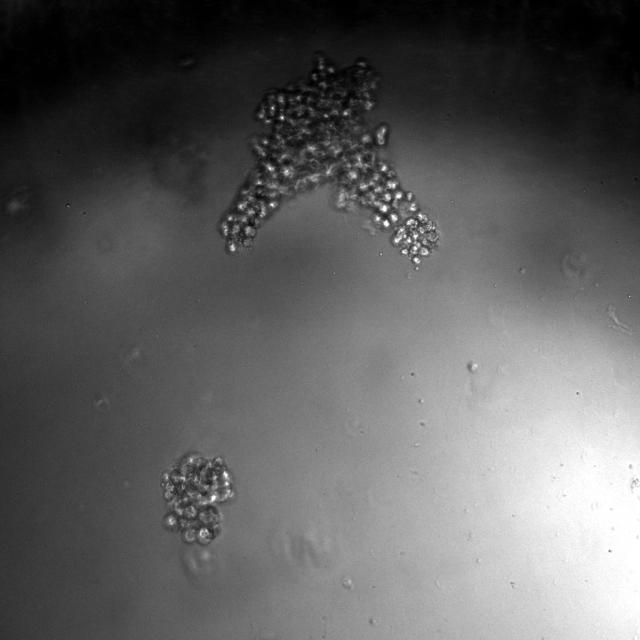organoid: (221, 53, 439, 264), (161, 454, 234, 545)
